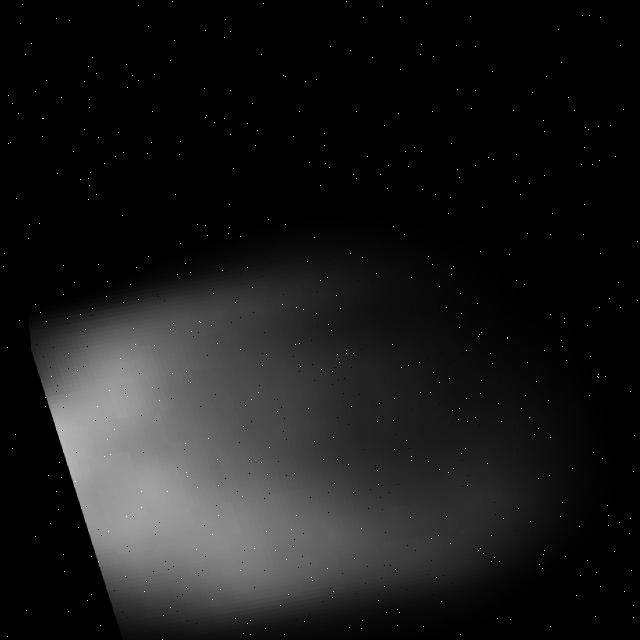person: (10, 129, 603, 640)
